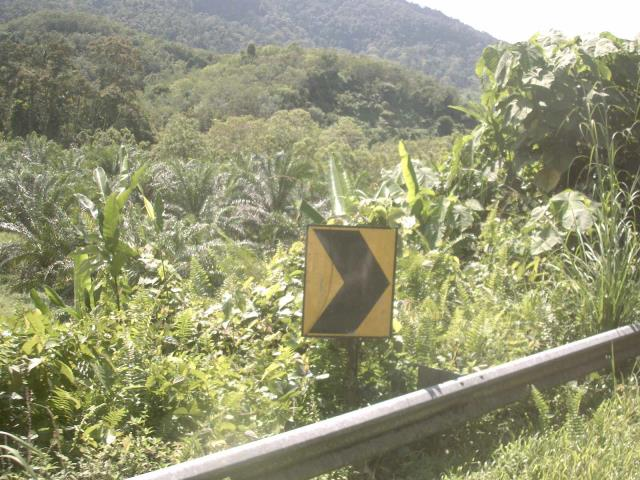traffic_sign: (291, 207, 407, 352)
